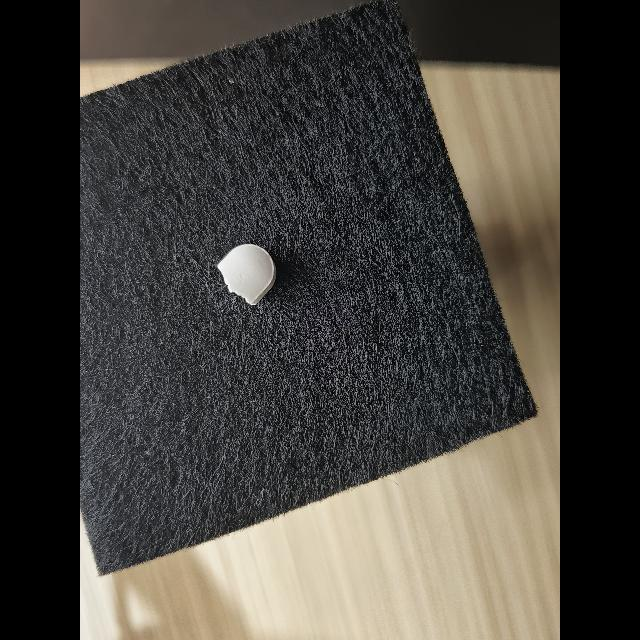Chipped Pill: (217, 244, 276, 305)
